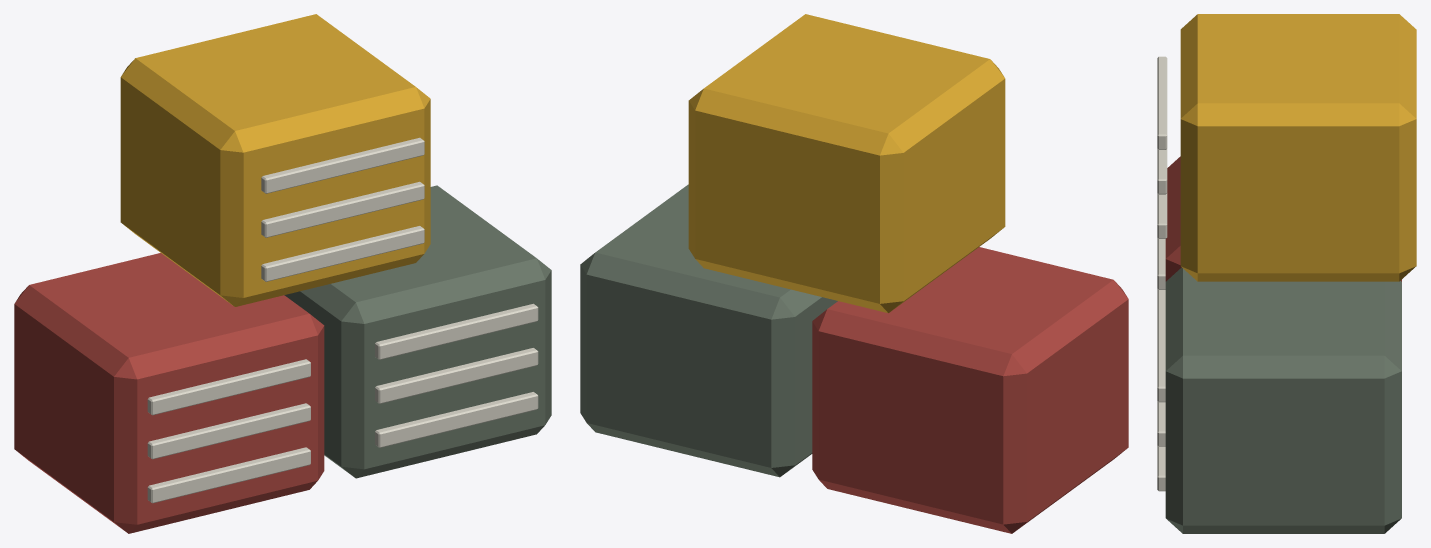
The model's file is PRP_CITY_017_beverage_crate_stack.glb.
3 renders of one model, left to right at view 1: azimuth 30°, elevation 25°; view 2: azimuth 150°, elevation 25°; view 3: azimuth 270°, elevation 25°, orthographic. The views are drawn at different scales.
Visible parts, largest first — view 1: PRP_CITY_017_beverage_crate_stack_RenderMesh; view 2: PRP_CITY_017_beverage_crate_stack_RenderMesh; view 3: PRP_CITY_017_beverage_crate_stack_RenderMesh.
Part boxes in pixels (x1=…): PRP_CITY_017_beverage_crate_stack_RenderMesh: x1=14, y1=14, x2=551, y2=533; PRP_CITY_017_beverage_crate_stack_RenderMesh: x1=580, y1=14, x2=1128, y2=533; PRP_CITY_017_beverage_crate_stack_RenderMesh: x1=1157, y1=14, x2=1416, y2=533.
Size of the model in its own units: 1.04 by 0.84 by 0.527.
